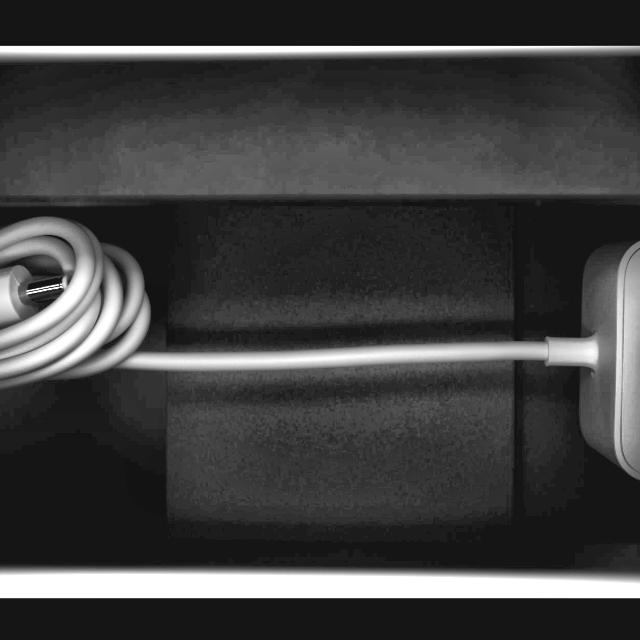Cable: (0, 203, 640, 487)
